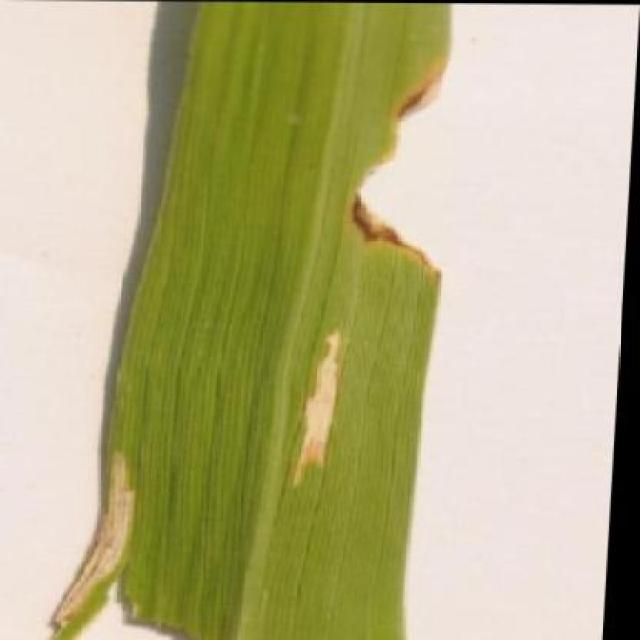Brown_Spot: (58, 0, 464, 640)
